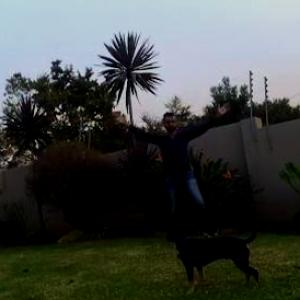takeoff: (104, 106, 223, 238)
